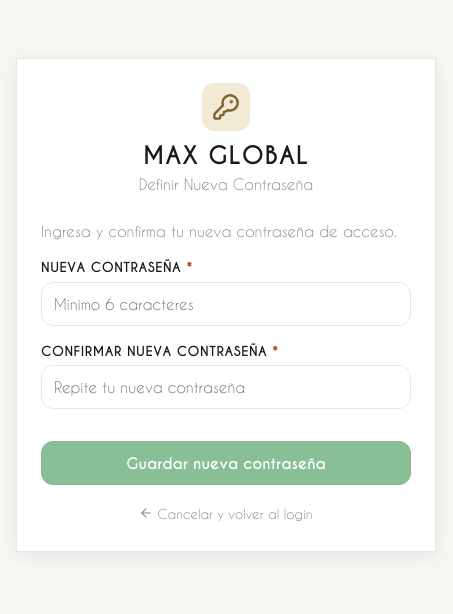
Test case: TAREA-57 · Recuperación de Contraseña › 1. Pantalla /nueva-contrasena (PNuevaContrasena) › Valida que las contraseñas coincidan y tengan mínimo 6 caracteres
Expected: the form with test id "form-nueva-contrasena" is shown, x1=41 y1=220 x2=411 y2=527
Step 1. Type "123" into the password field labelled "Nueva contraseña *" → (226, 304), box x1=41 y1=282 x2=411 y2=326
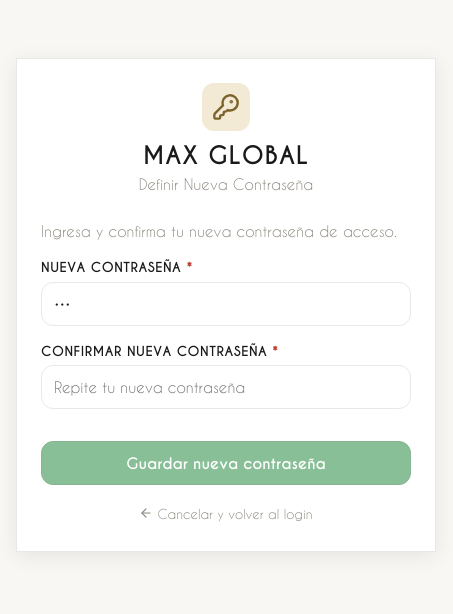
Step 2. Type "123" into the password field labelled "Confirmar nueva contraseña *" → (226, 387), box x1=41 y1=365 x2=411 y2=409
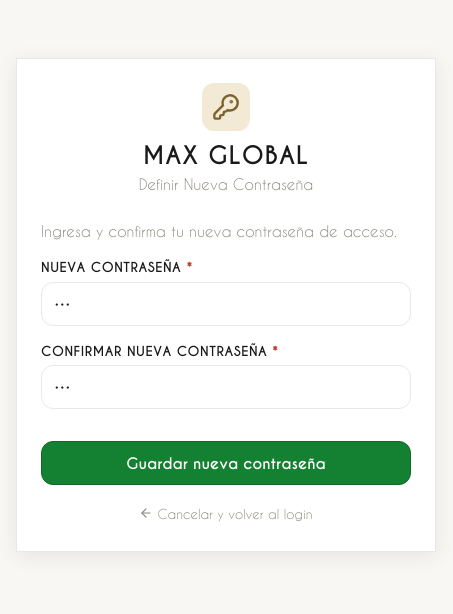
Step 3. Click the button with test id "btn-guardar-contrasena" → (226, 463), box x1=41 y1=441 x2=411 y2=485
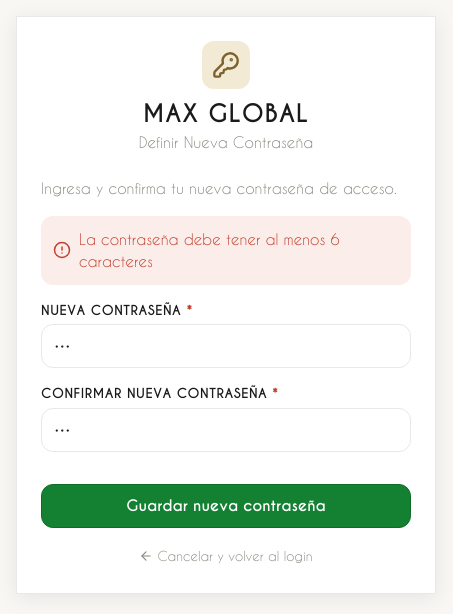
Result: the text "La contraseña debe tener al menos 6 caracteres" is shown at x1=79 y1=230 x2=340 y2=270
# Claves no coincidentes
Step 4. Type "Segura123" into the password field labelled "Nueva contraseña *" → (226, 346), box x1=41 y1=324 x2=411 y2=368
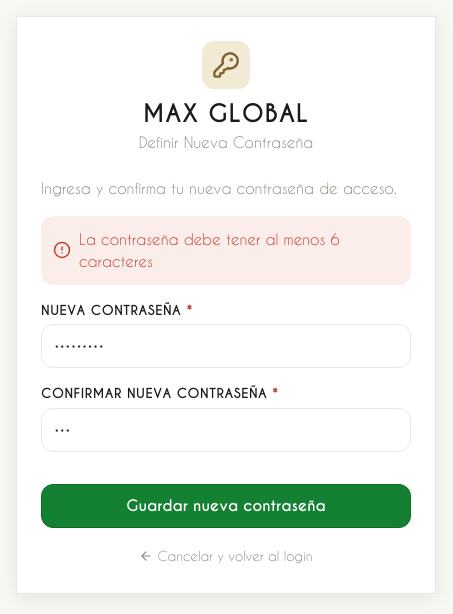
Step 5. Type "OtraClaveDistinta" into the password field labelled "Confirmar nueva contraseña *" → (226, 430), box x1=41 y1=408 x2=411 y2=452
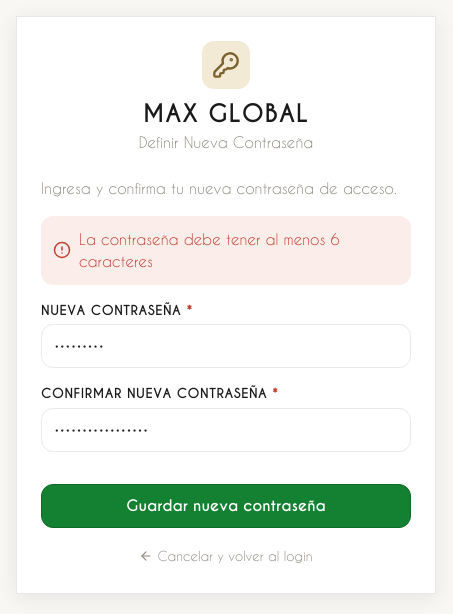
Step 6. Click the button with test id "btn-guardar-contrasena" → (226, 506), box x1=41 y1=484 x2=411 y2=528
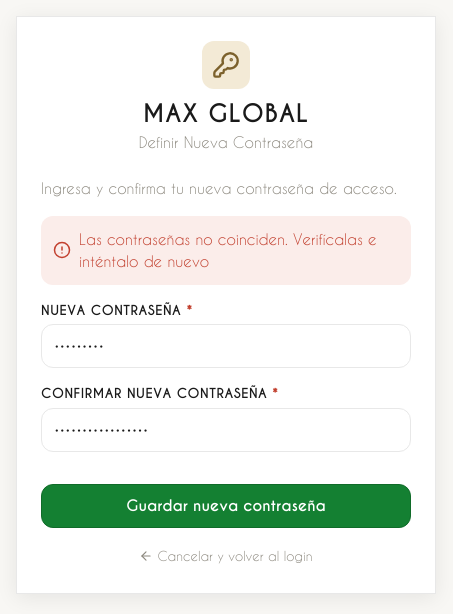
Result: the text "Las contraseñas no coinciden" is shown at x1=79 y1=230 x2=377 y2=270
